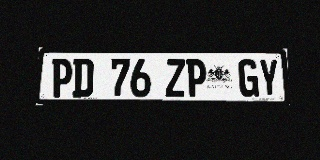6: (131, 59, 151, 97)
7: (109, 59, 130, 97)
D: (72, 59, 94, 97)
G: (238, 59, 259, 97)
P: (51, 58, 73, 97), (186, 59, 206, 97)
Y: (258, 59, 279, 97)
Z: (165, 59, 186, 97)
